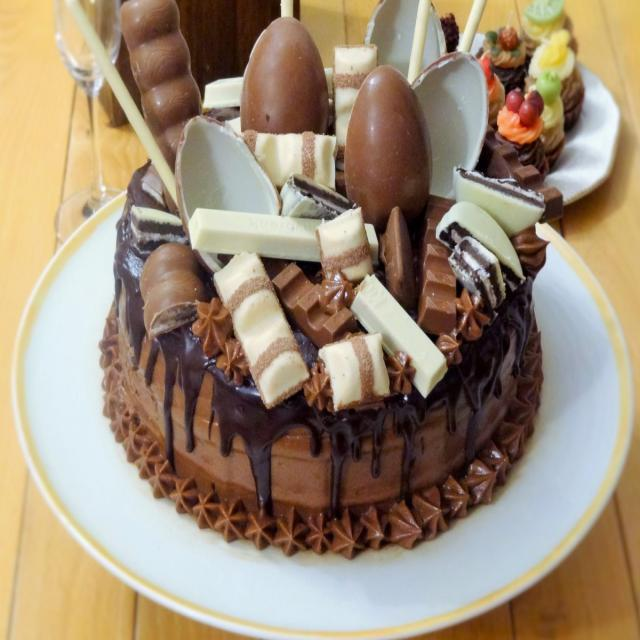Chocolate bar packaged: (119, 1, 206, 191), (213, 253, 311, 409), (350, 269, 448, 403), (186, 206, 383, 262), (132, 237, 202, 343), (272, 260, 357, 346), (317, 332, 392, 416), (419, 189, 461, 332), (313, 207, 371, 287)
